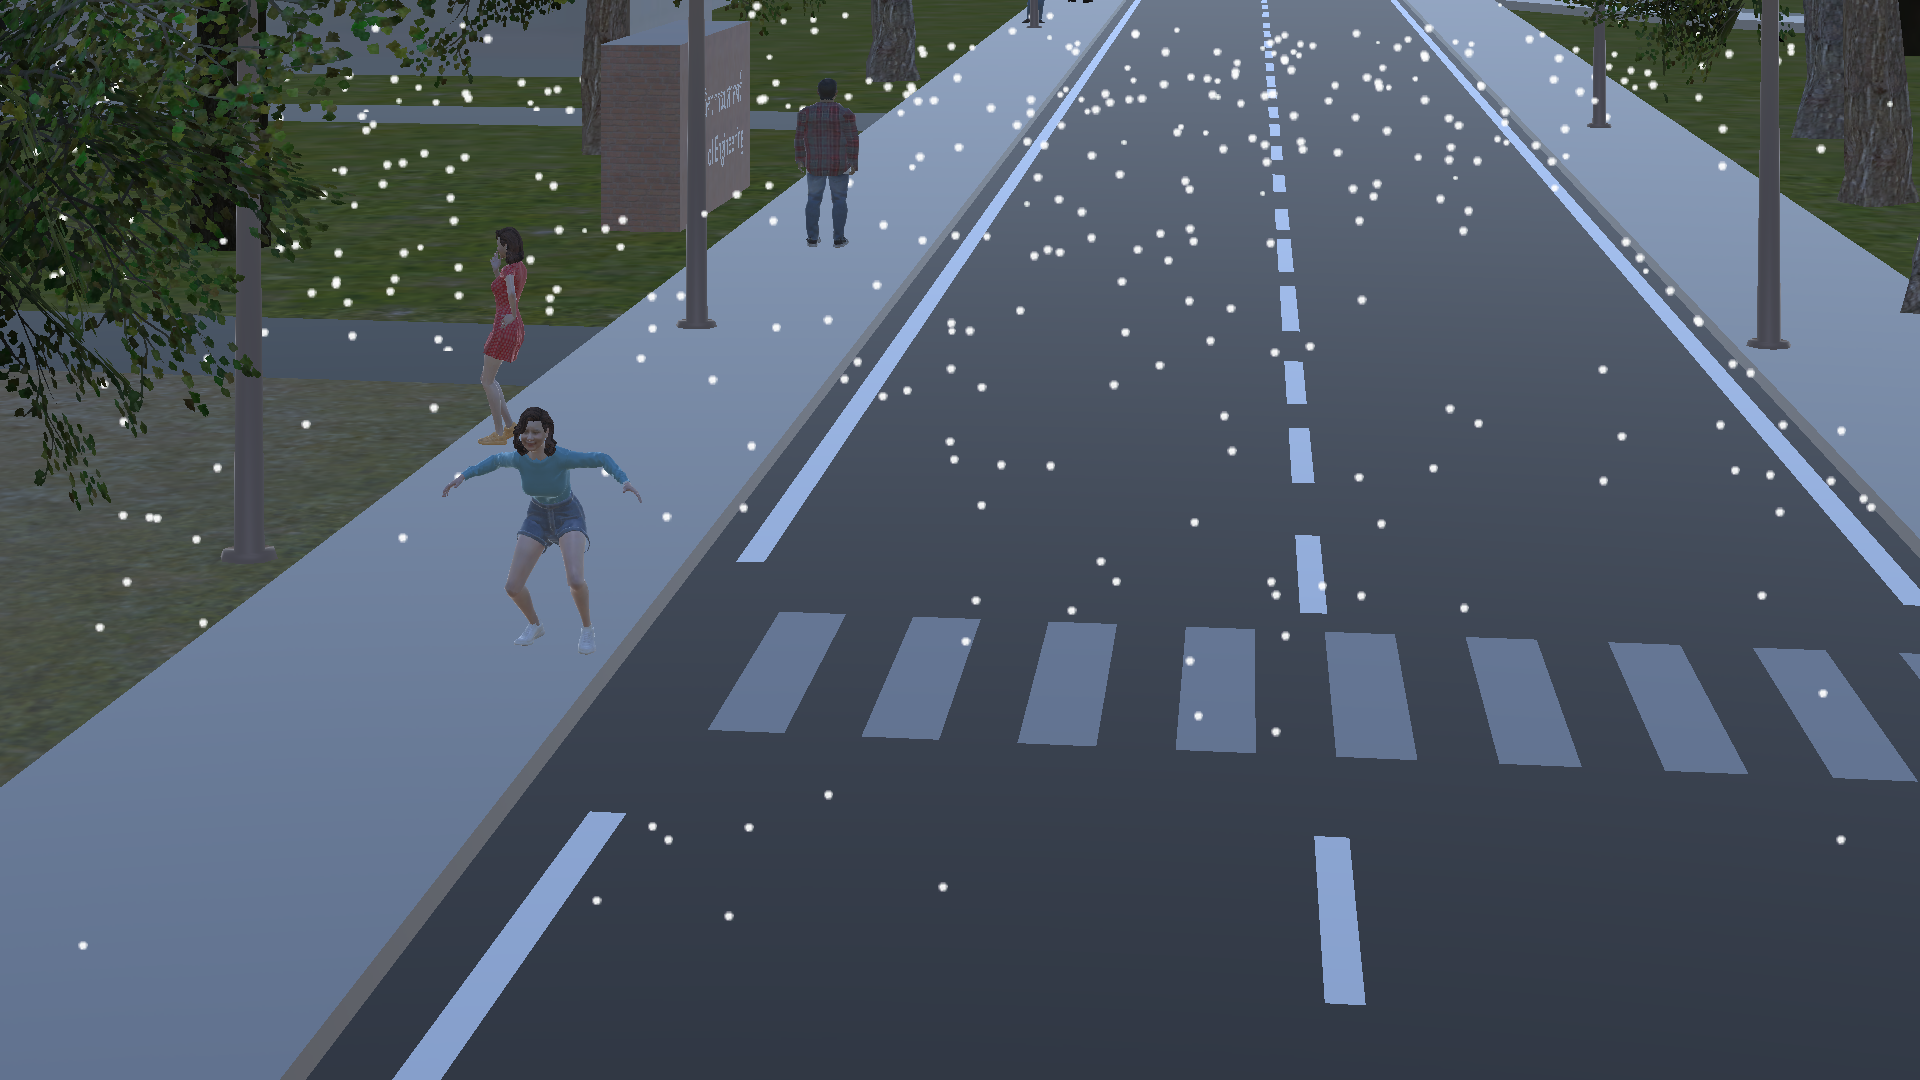pedestrian: (451, 394, 648, 677), (782, 73, 862, 264), (463, 212, 525, 451)
